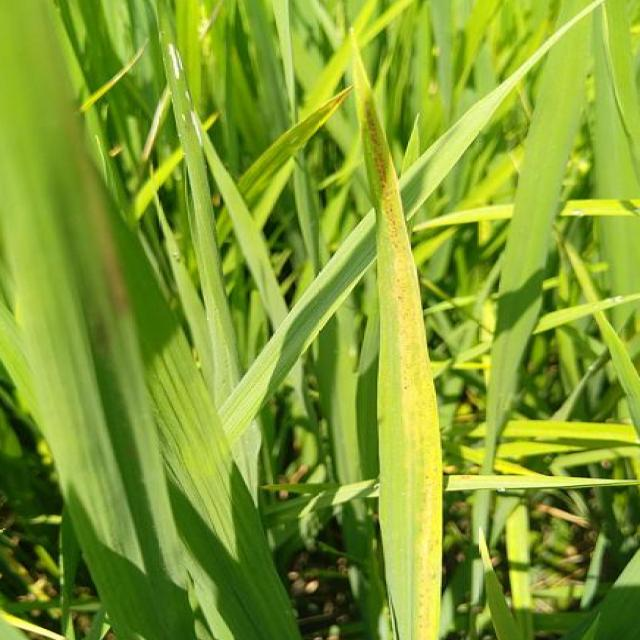Leaf Streak: (354, 46, 440, 640), (60, 132, 137, 352)
